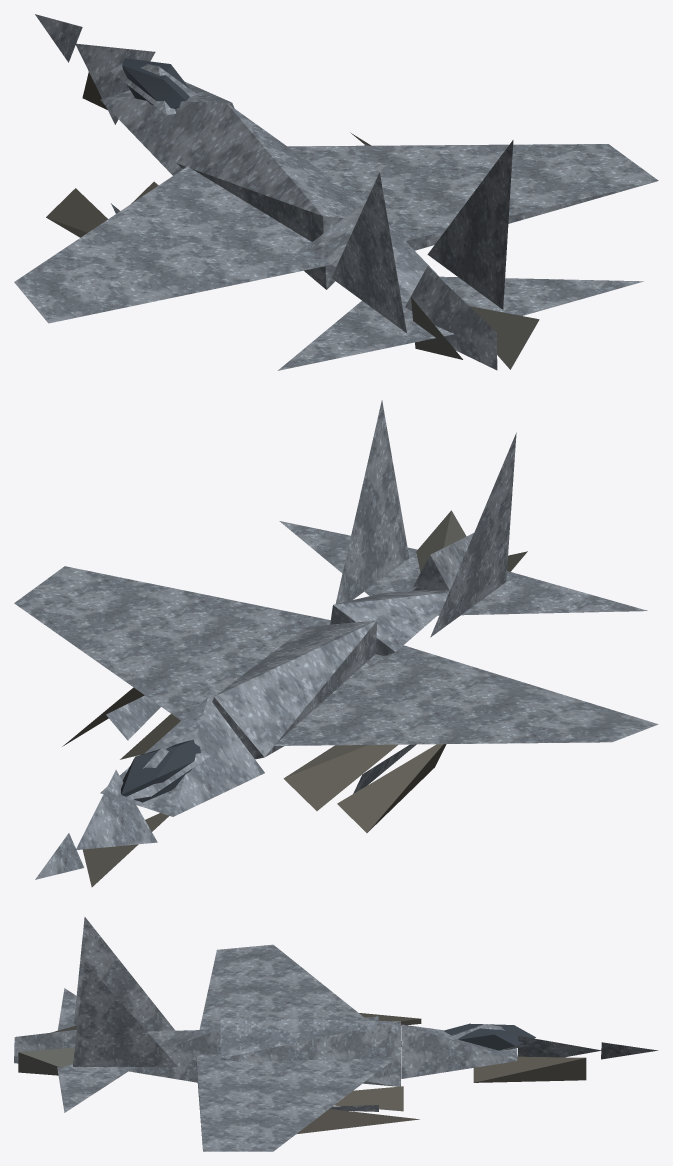
Rendered from ewa_e2_us_electronic_LOD2.glb.
3 renders of one model, top to bottom at view 1: azimuth 30°, elevation 25°; view 2: azimuth 150°, elevation 25°; view 3: azimuth 270°, elevation 25°, orthographic. The views are drawn at different scales.
Parts seen in each view (by area): view 1: ewa_e2_us_electronic_LOD2_body, ewa_e2_us_electronic_LOD2_gun, ewa_e2_us_electronic_LOD2_deck, ewa_e2_us_electronic_LOD2_glass; view 2: ewa_e2_us_electronic_LOD2_body, ewa_e2_us_electronic_LOD2_deck, ewa_e2_us_electronic_LOD2_glass, ewa_e2_us_electronic_LOD2_gun; view 3: ewa_e2_us_electronic_LOD2_body, ewa_e2_us_electronic_LOD2_deck, ewa_e2_us_electronic_LOD2_glass, ewa_e2_us_electronic_LOD2_gun.
Part boxes in pixels (bbox=[...]): ewa_e2_us_electronic_LOD2_body: bbox=[14, 14, 658, 370]; ewa_e2_us_electronic_LOD2_gun: bbox=[411, 297, 539, 369]; ewa_e2_us_electronic_LOD2_deck: bbox=[46, 72, 370, 237]; ewa_e2_us_electronic_LOD2_glass: bbox=[122, 58, 189, 108]; ewa_e2_us_electronic_LOD2_body: bbox=[14, 400, 658, 879]; ewa_e2_us_electronic_LOD2_deck: bbox=[62, 687, 446, 887]; ewa_e2_us_electronic_LOD2_glass: bbox=[121, 739, 200, 802]; ewa_e2_us_electronic_LOD2_gun: bbox=[416, 510, 527, 571]; ewa_e2_us_electronic_LOD2_body: bbox=[14, 917, 658, 1151]; ewa_e2_us_electronic_LOD2_deck: bbox=[296, 1013, 586, 1134]; ewa_e2_us_electronic_LOD2_glass: bbox=[444, 1023, 535, 1050]; ewa_e2_us_electronic_LOD2_gun: bbox=[18, 1025, 77, 1075].
Bounding box in the file's own units: 13.74 × 4.5 × 18.33.
Materials: 4 (1 with a texture image).
